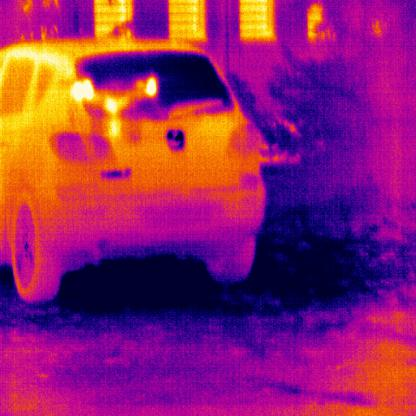drone: (69, 72, 158, 139)
